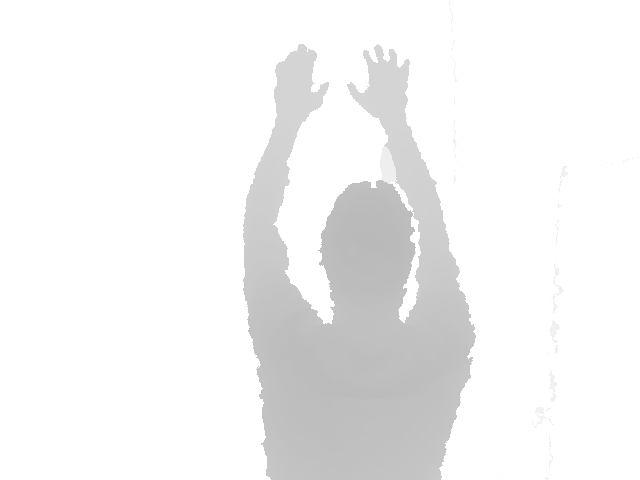hand: (348, 44, 410, 125), (273, 44, 330, 123)
head: (318, 181, 414, 331)
person: (241, 44, 477, 480)
